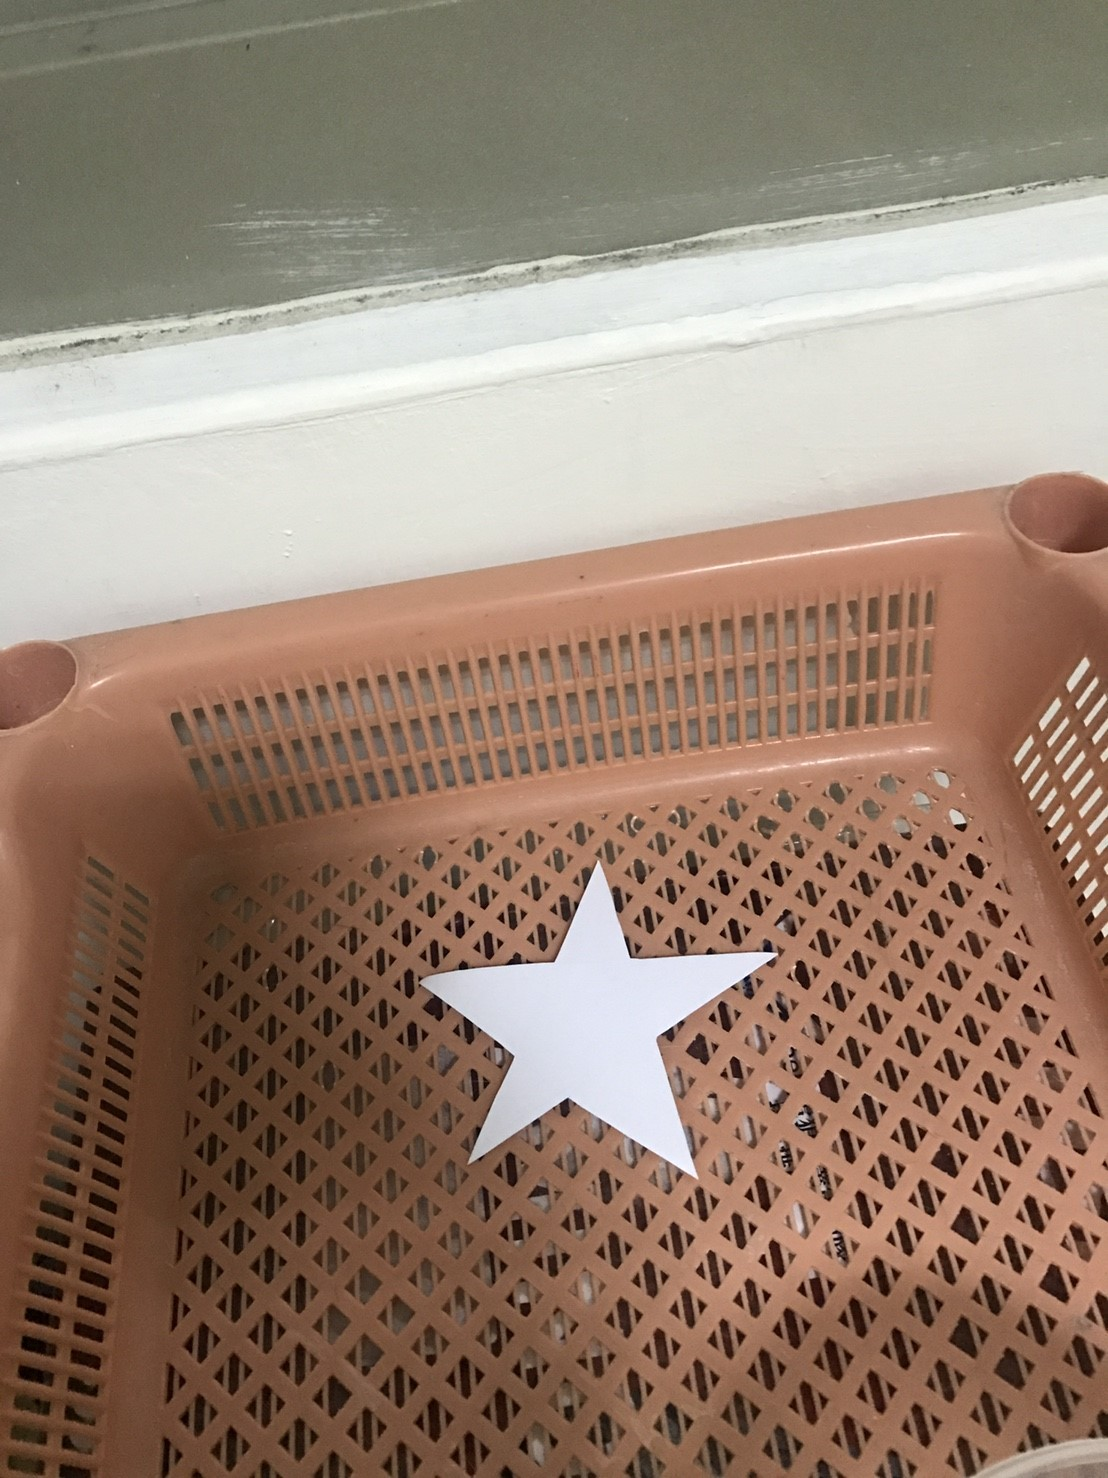star: (419, 837, 777, 1218)
